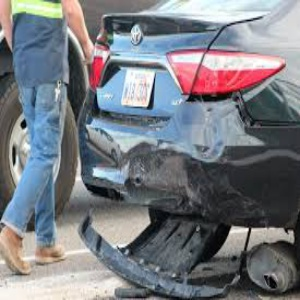bumper: (77, 125, 268, 235)
